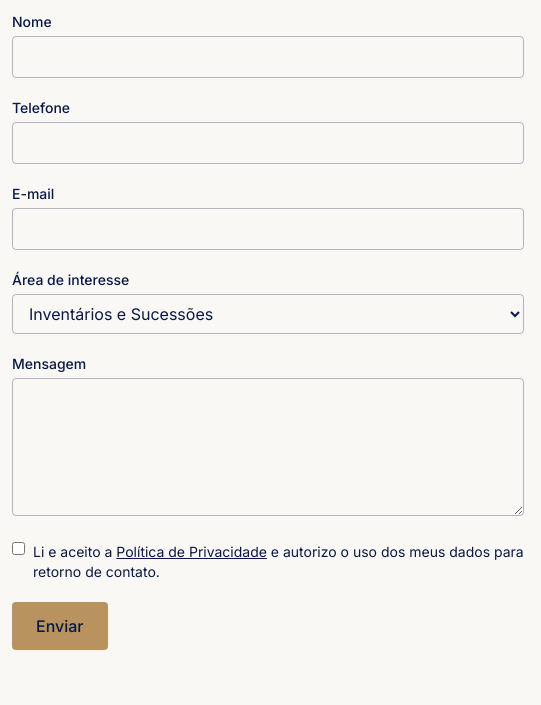
Test: ContactForm › shows an error and re-enables the submit button when the network request fails
The width and height of the screenshot is (541, 705).
Type "Maria Silva" into the field labelled "Nome".
click(268, 57); type("Maria Silva")  # box [12,36,524,78]
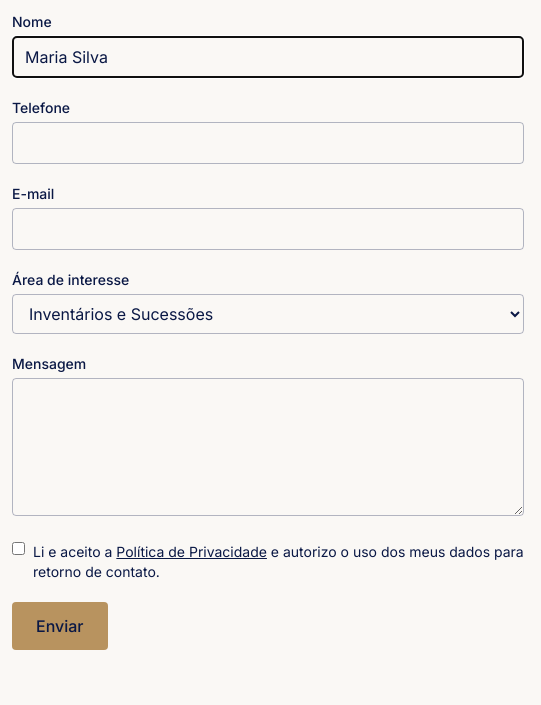
Type "(21) 90000-0000" into the field labelled "Telefone".
click(268, 143); type("(21) 90000-0000")  # box [12,122,524,164]
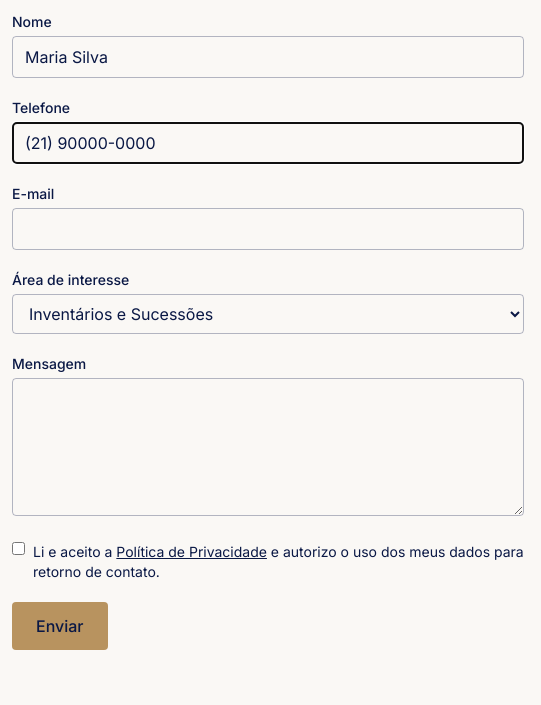
Type "maria@example.com" into the field labelled "E-mail".
click(268, 229); type("maria@example.com")  # box [12,208,524,250]
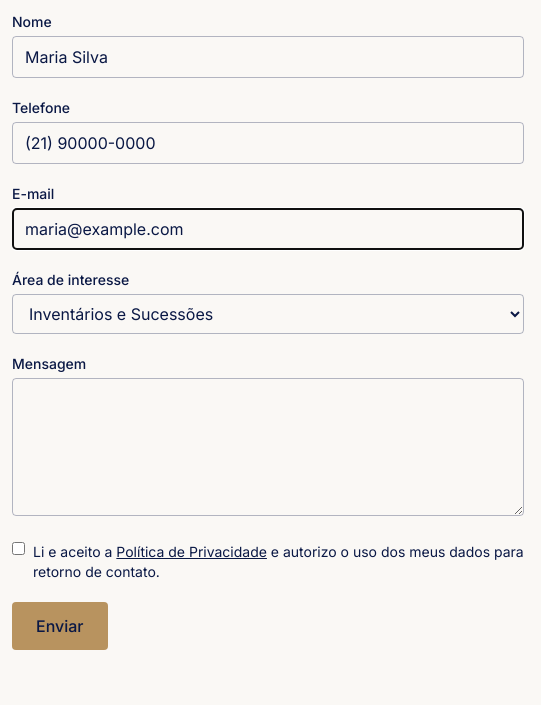
Type "Preciso de ajuda." into the text box labelled "Mensagem".
click(268, 447); type("Preciso de ajuda.")  # box [12,378,524,516]
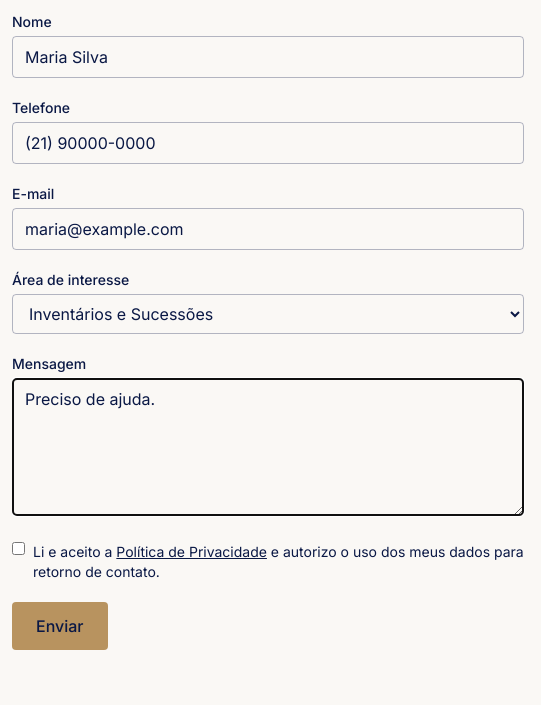
Click the checkbox labelled "Li e aceito".
click(18, 548)  # box [12,542,25,555]
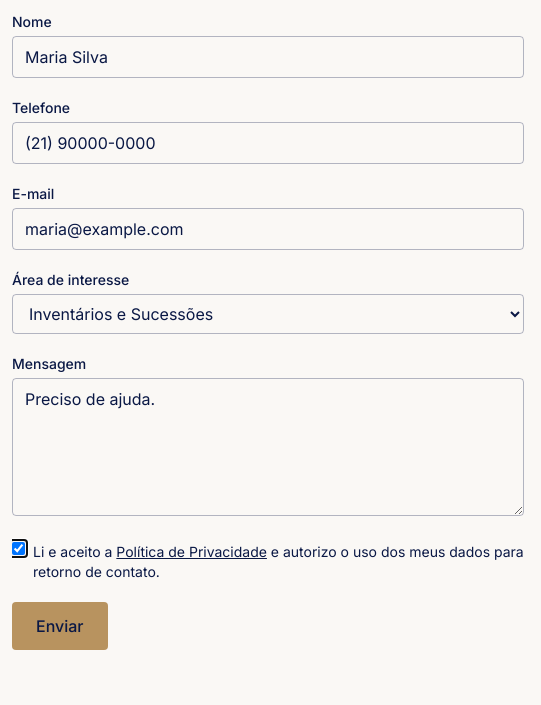
Click the button "Enviar".
click(60, 626)  # box [12,602,108,650]
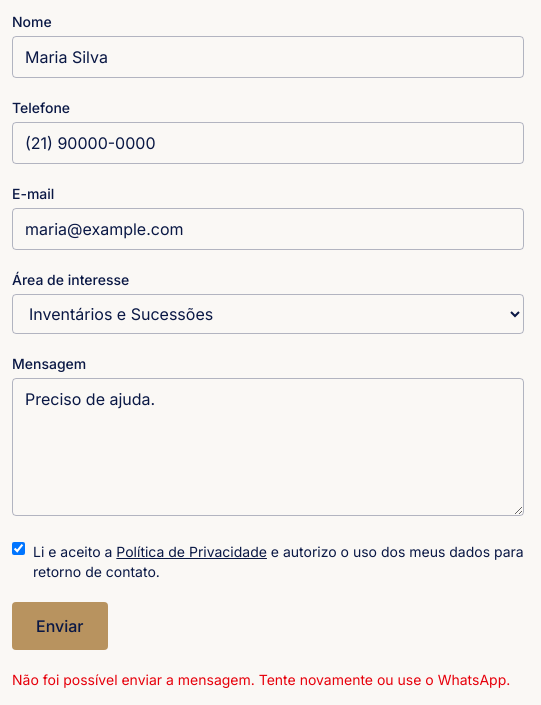
Expected: the text "Não foi possível enviar a mensagem" is shown, [12,671,510,688]
